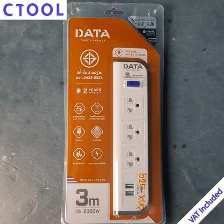book: (64, 14, 162, 223)
three_eye_plug: (107, 55, 151, 219)
